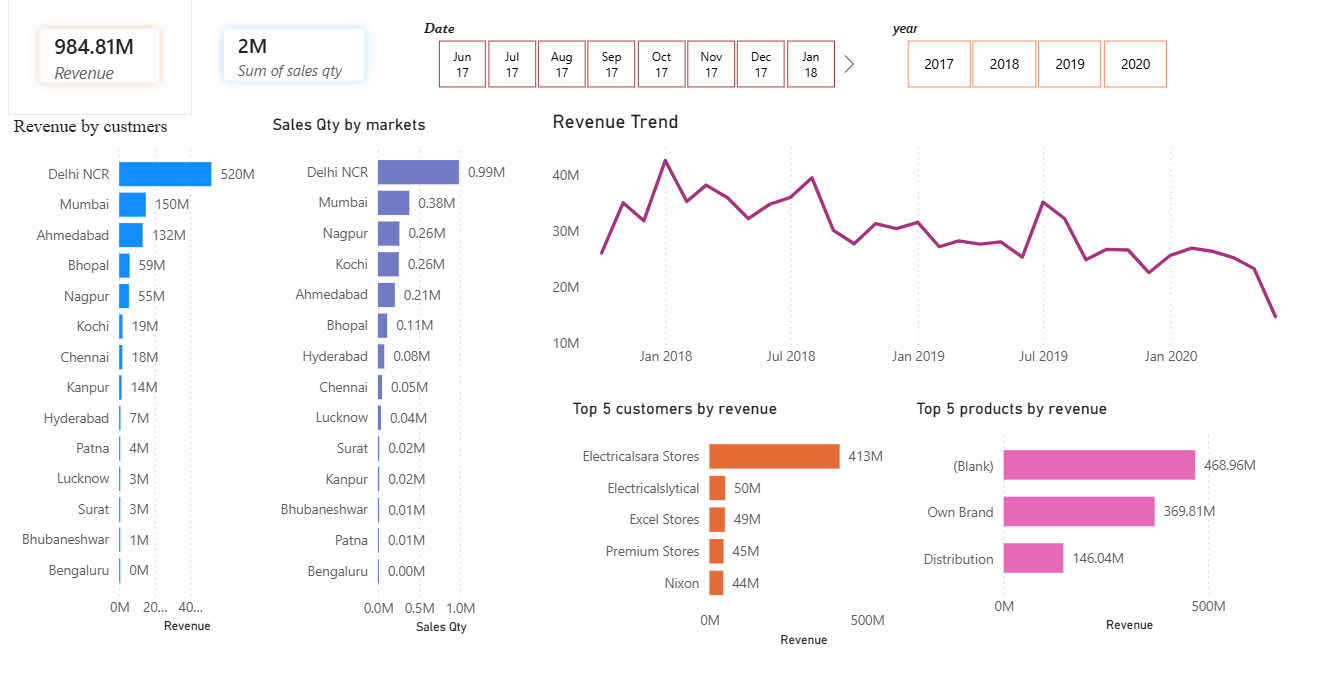

The page's visual inventory and layout, read from the dashboard file:
{"tool":"powerbi","page":{"name":"Page 1","canvas":[1200,620],"ordinal":0},"visuals":[{"type":"cardVisual","fields":{"Data":["BaseMeasures.Revenue"]},"box":[9,0,163,105],"z":0},{"type":"cardVisual","fields":{"Data":["Sum(sales transactions.sales_qty)"]},"box":[172,0,182,103],"z":1000},{"type":"barChart","title":"Revenue by custmers","fields":{"Y":["BaseMeasures.Revenue"],"Category":["sales markets.markets_name"]},"box":[9,105,241,465],"z":2000},{"type":"barChart","title":"Sales Qty by markets","fields":{"Y":["BaseMeasures.Sales Qty"],"Category":["sales markets.markets_name"]},"box":[239,104,231,467],"z":3000},{"type":"slicer","fields":{"Values":["sales date.cy_date"]},"box":[366,16,402,72],"z":4000},{"type":"slicer","fields":{"Values":["sales date.year"]},"box":[782,16,281,72],"z":5000},{"type":"barChart","title":"Top 5 customers by revenue","fields":{"Category":["sales customers.custmer_name"],"Y":["BaseMeasures.Revenue"]},"box":[505,357,316,226],"z":6000},{"type":"barChart","title":"Top 5 products by revenue","fields":{"Category":["sales products.product_type"],"Y":["BaseMeasures.Revenue"]},"box":[811,357,328,213],"z":7000},{"type":"lineChart","title":"Revenue Trend","fields":{"Y":["BaseMeasures.Revenue"],"Category":["sales date.cy_date.Variation.Date Hierarchy.Year","sales date.cy_date.Variation.Date Hierarchy.Quarter","sales date.cy_date.Variation.Date Hierarchy.Month","sales date.cy_date.Variation.Date Hierarchy.Day"]},"box":[488,100,677,238],"z":8000}]}

Visuals, with their boxes in screenshot pixels (x1, y1, x2, y2), scaled from the page's 1200x620 canvas onto the 1320x683 screenshot:
cardVisual - BaseMeasures.Revenue: x1=10, y1=0, x2=189, y2=116
cardVisual - Sum(sales transactions.sales_qty): x1=189, y1=0, x2=389, y2=113
"Revenue by custmers" barChart: x1=10, y1=116, x2=275, y2=628
"Sales Qty by markets" barChart: x1=263, y1=115, x2=517, y2=629
slicer - sales date.cy_date: x1=403, y1=18, x2=845, y2=97
slicer - sales date.year: x1=860, y1=18, x2=1169, y2=97
"Top 5 customers by revenue" barChart: x1=556, y1=393, x2=903, y2=642
"Top 5 products by revenue" barChart: x1=892, y1=393, x2=1253, y2=628
"Revenue Trend" lineChart: x1=537, y1=110, x2=1282, y2=372
